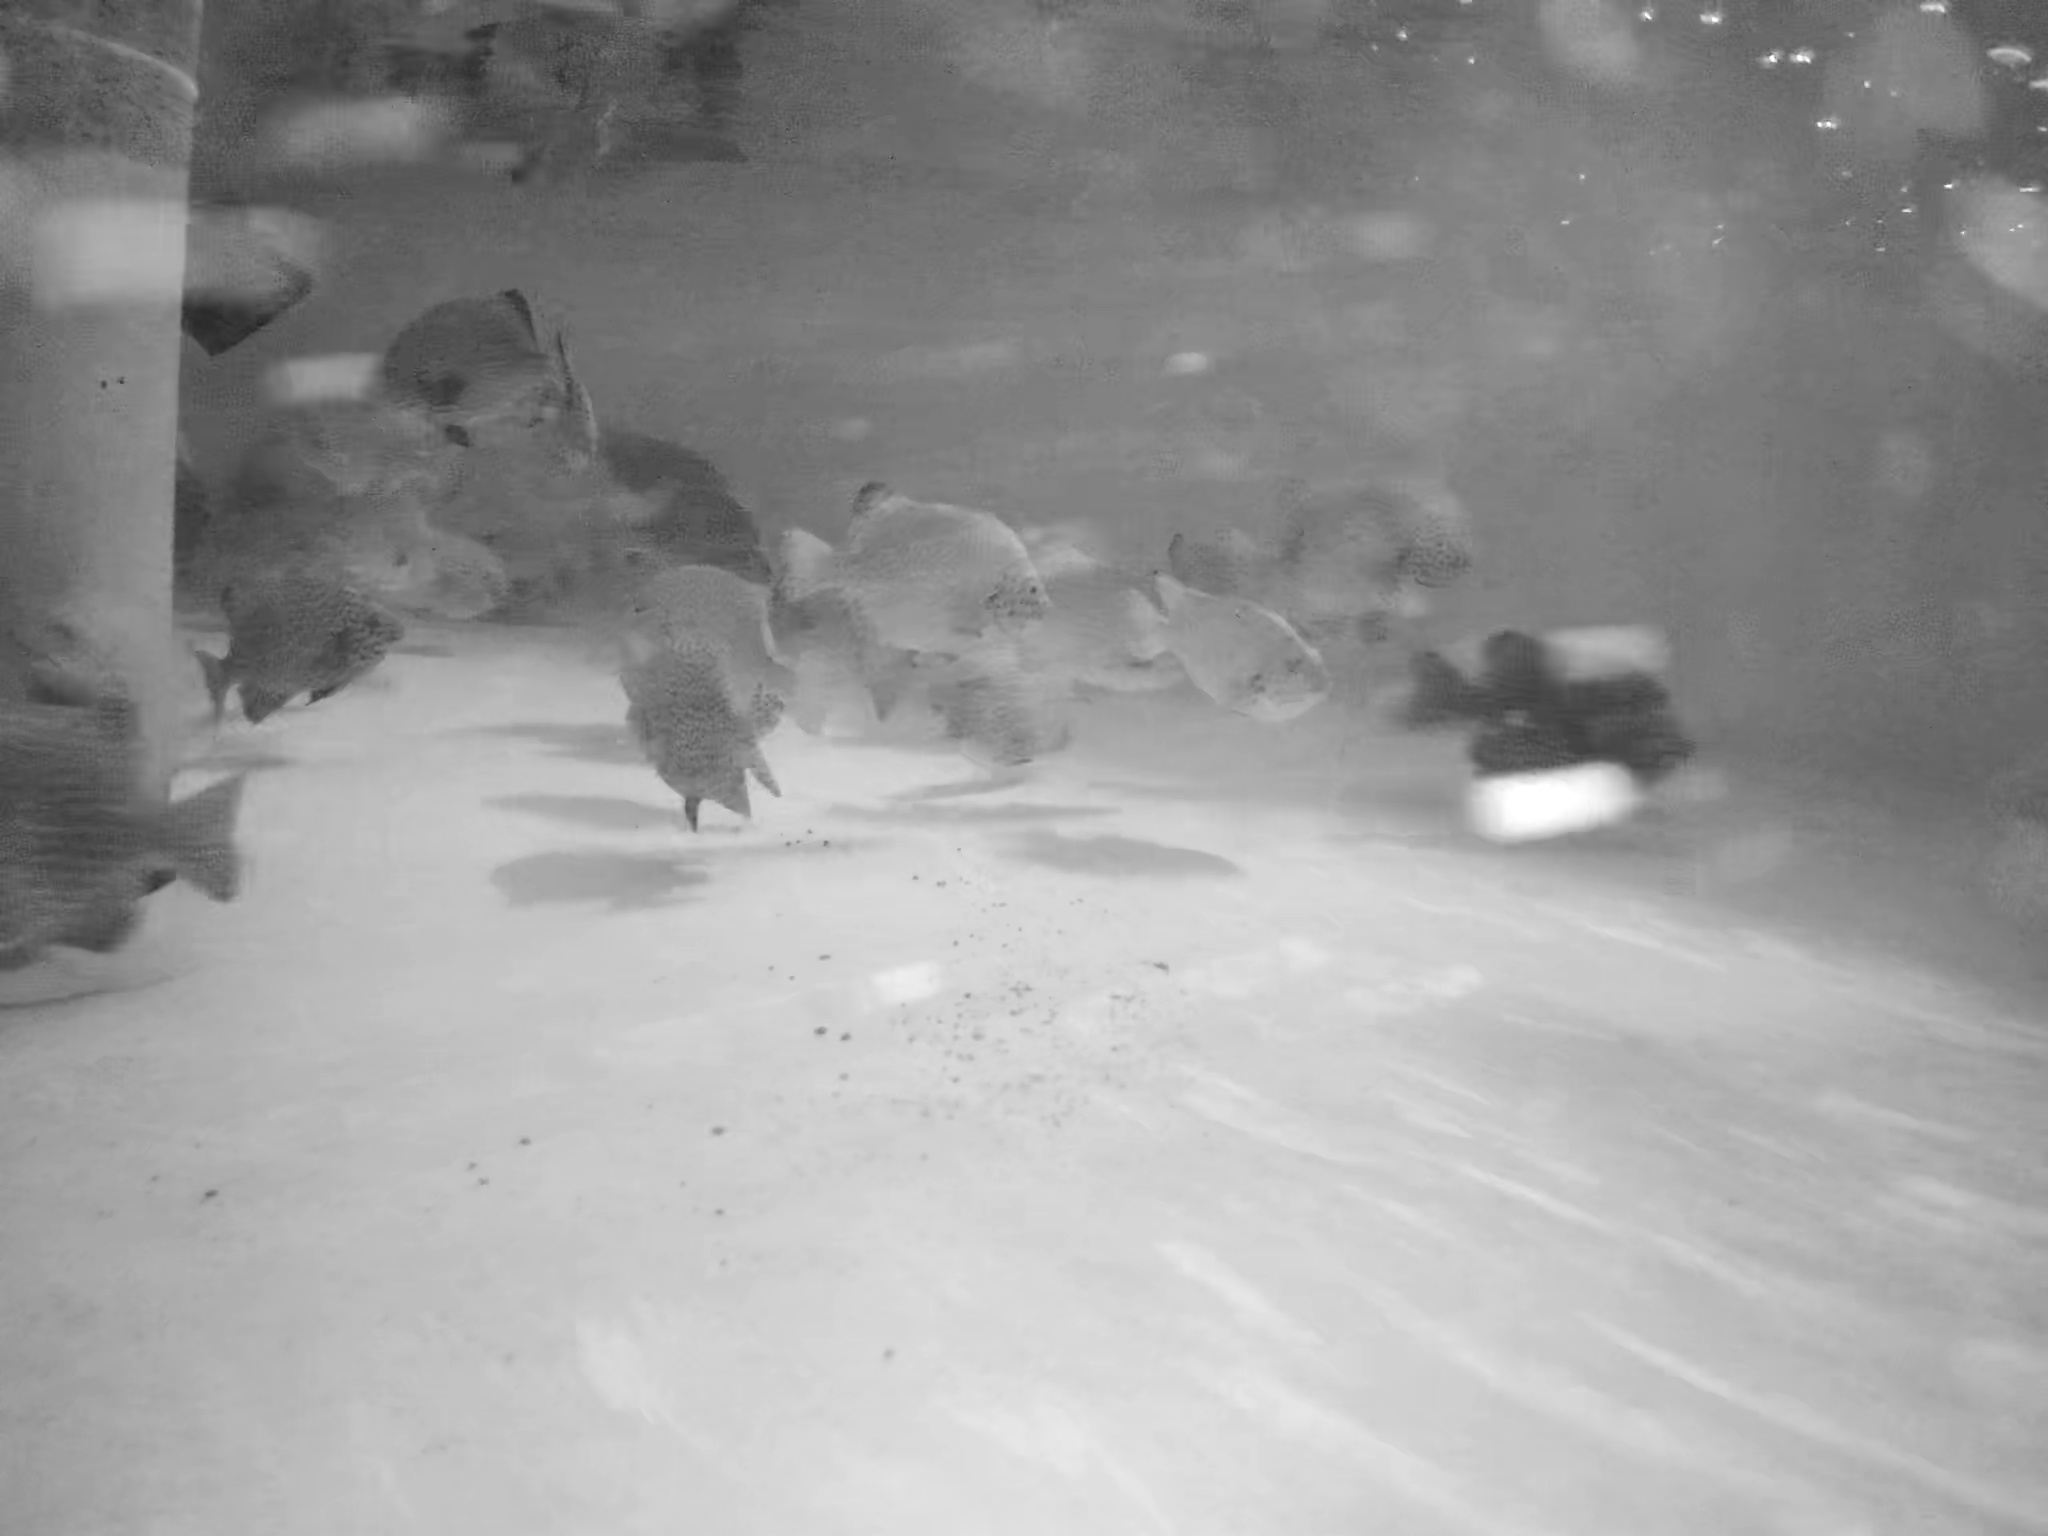fish: (2, 624, 255, 945), (1405, 629, 1743, 820), (787, 458, 1077, 650), (368, 281, 634, 470), (208, 463, 498, 628), (1187, 471, 1508, 600), (606, 610, 777, 833), (182, 565, 414, 724), (1142, 545, 1313, 729), (650, 544, 810, 700), (930, 650, 1100, 779), (182, 194, 318, 352), (268, 387, 477, 478)
